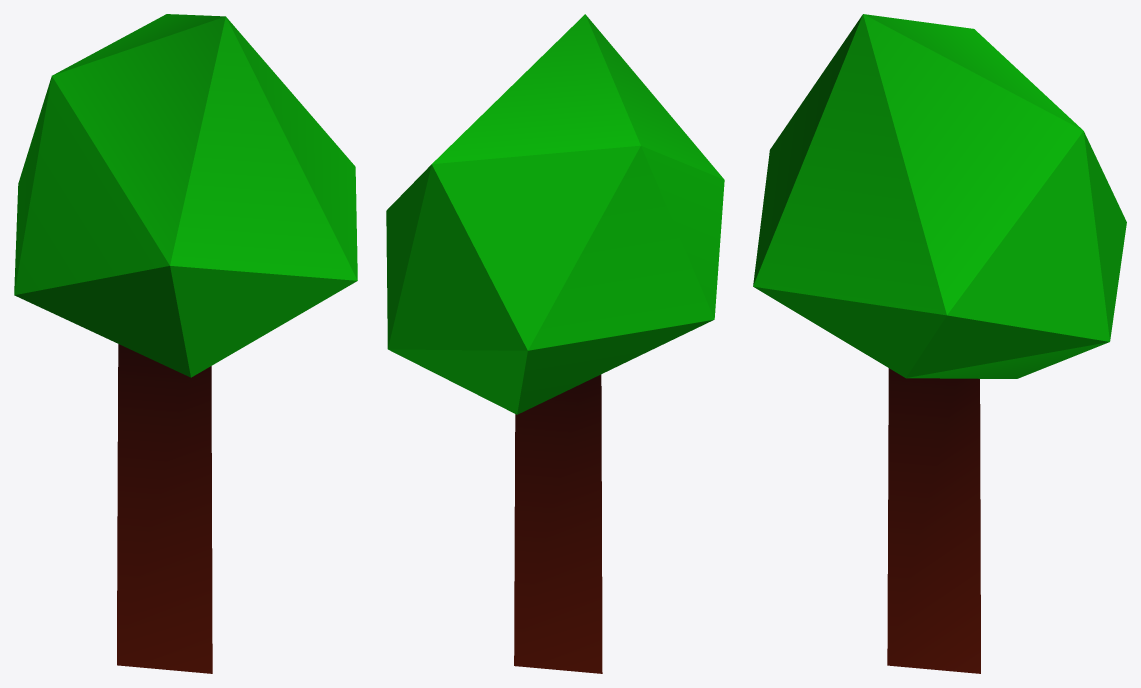
The model's file is tree1.fbx.
3 views of the same model, side by side, from view 1: azimuth 30°, elevation 25°; view 2: azimuth 150°, elevation 25°; view 3: azimuth 270°, elevation 25° (orthographic). The views are drawn at different scales.
Visible parts, largest first — view 1: tree.007; view 2: tree.007; view 3: tree.007.
Part boxes in pixels (x1=…): tree.007: x1=14, y1=14, x2=357, y2=673; tree.007: x1=386, y1=14, x2=724, y2=673; tree.007: x1=753, y1=14, x2=1126, y2=673.
Bounding box in the file's own units: 464 × 848 × 441.
